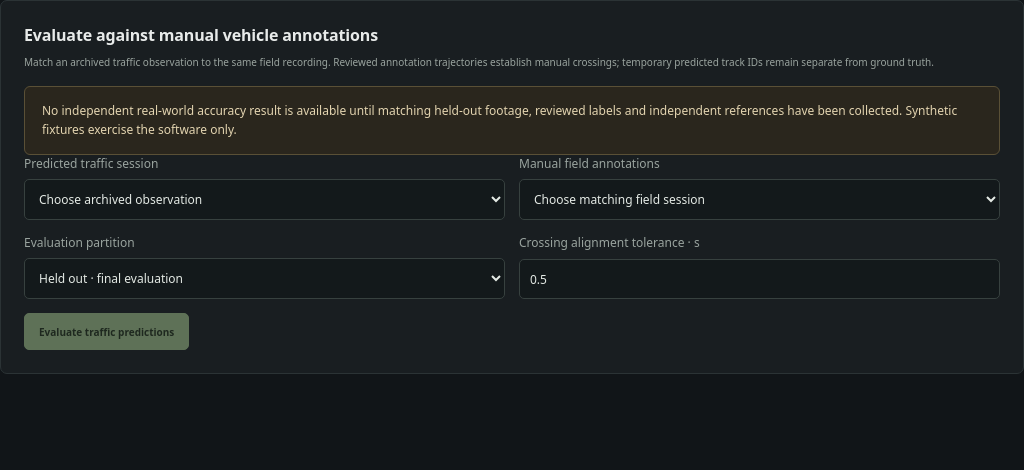
Scenario: traffic annotation evidence › reports partition/source incompatibility and retains chosen evidence for correction
This screenshot has width=1024, height=470.
Select "Predicted fixture · synthetic" in the dropdown labelled "Predicted traffic session". click: (264, 200)
box: [24,179,505,220]
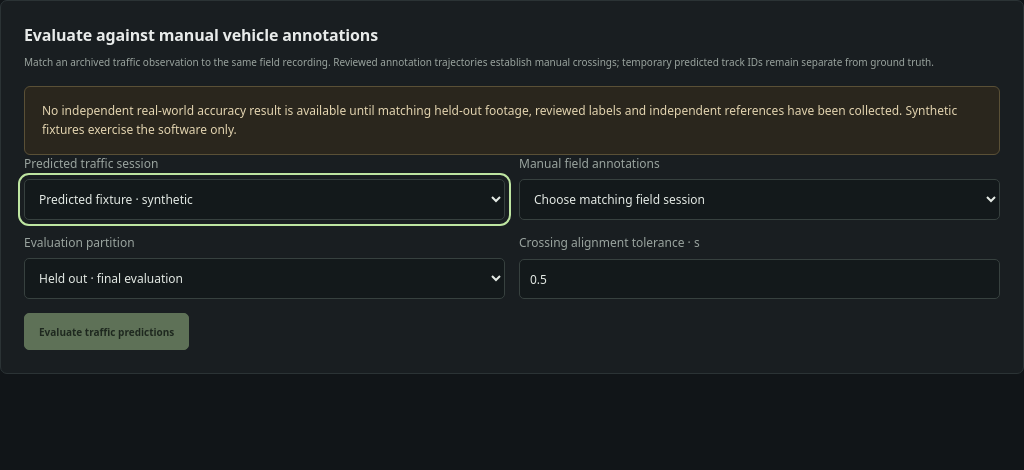
Select "Manual fixture · held_out · synthetic" in the dropdown labelled "Manual field annotations". click: (760, 200)
box: [519,179,1000,220]
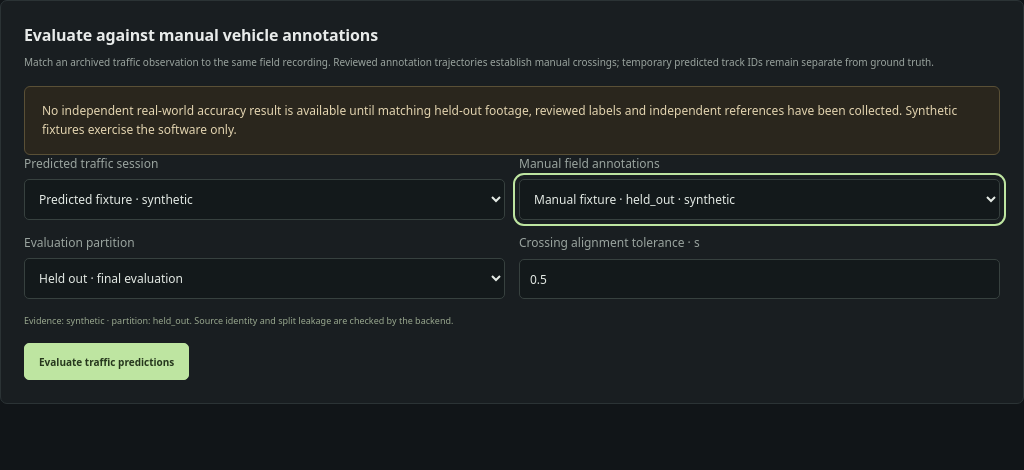
Click the button "Evaluate traffic predictions". click: click(107, 362)
box: [24,343,189,380]
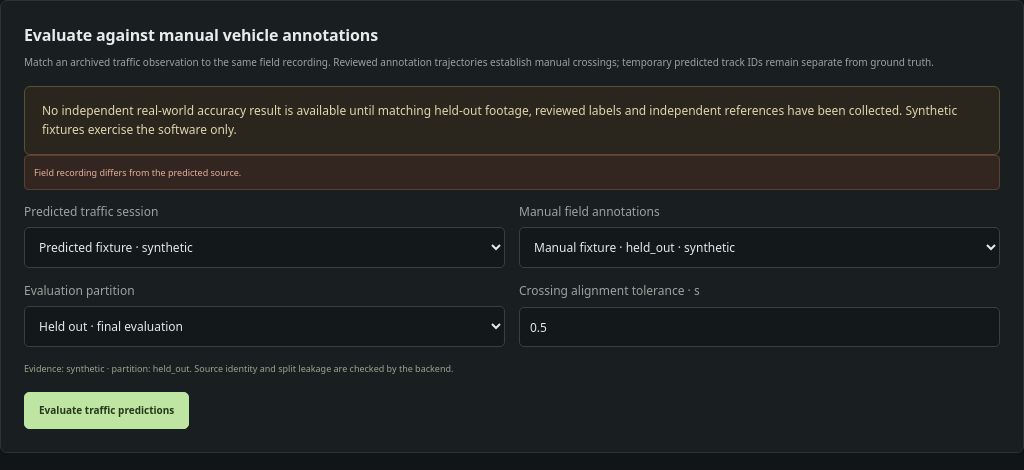
Check: the button "Evaluate traffic predictions" is enabled, box [24,392,189,429]
Check: the message shows "recording differs", box [34,166,241,179]
